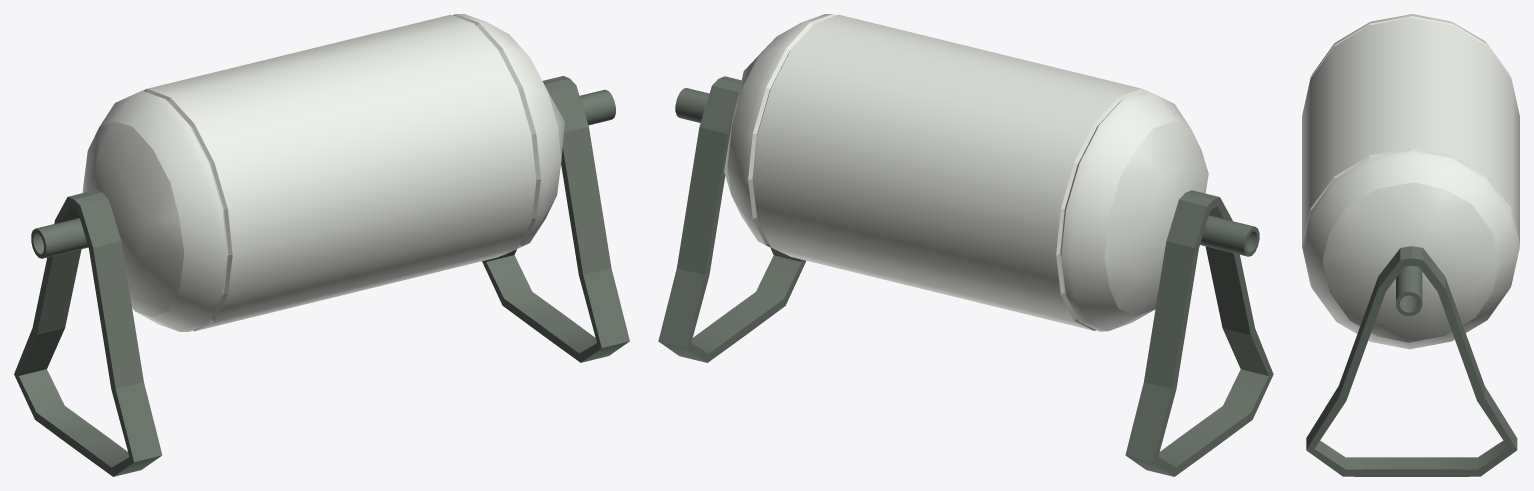
Rendered from SM_gastank_01.fbx.
3 views of the same model, side by side, from view 1: azimuth 30°, elevation 25°; view 2: azimuth 150°, elevation 25°; view 3: azimuth 270°, elevation 25° (orthographic). The views are drawn at different scales.
Parts seen in each view (by area): view 1: gastank_01; view 2: gastank_01; view 3: gastank_01.
Boxes of the visible parts, x1,y1,x2,y2 form: gastank_01: (14,14,629,476); gastank_01: (658,14,1273,476); gastank_01: (1302,14,1519,476).
Size of the model in its own units: 591 by 325 by 223.
